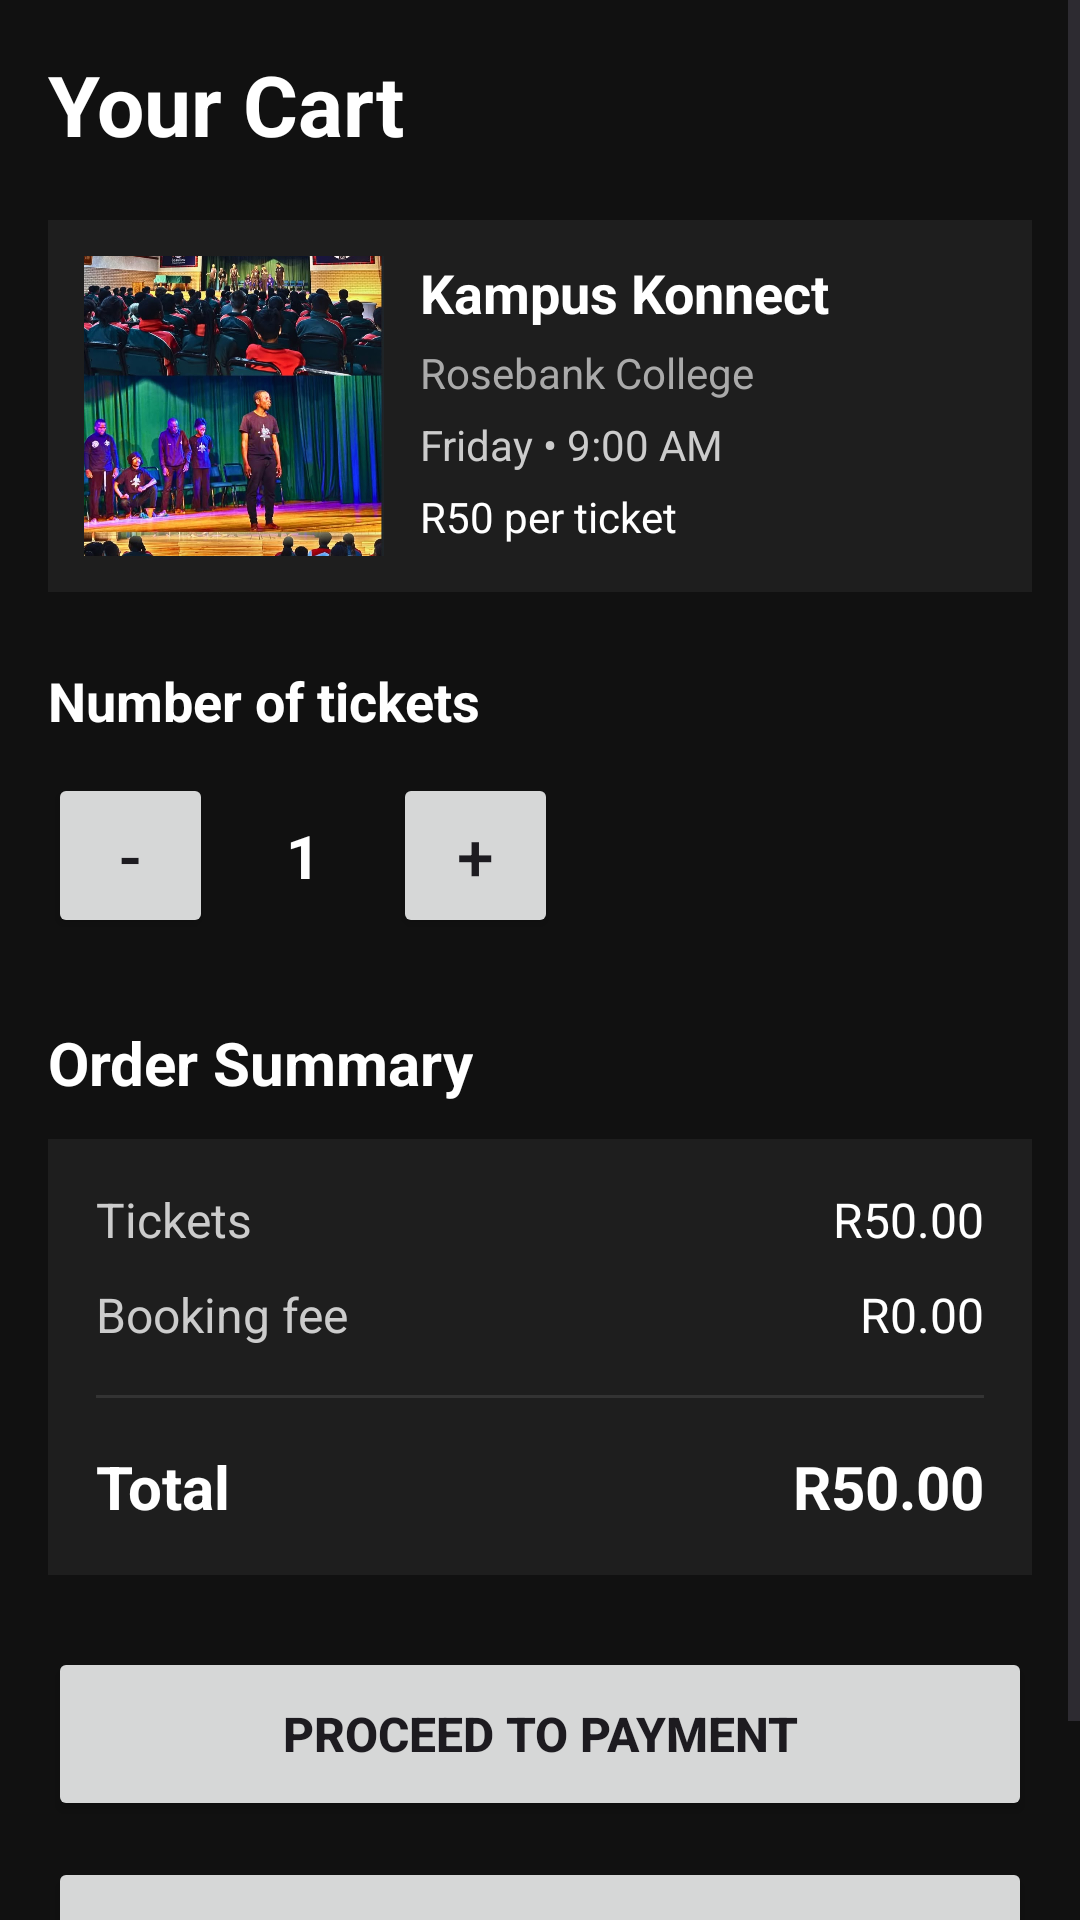

Named icons in this screenshot (1080 × 1920) and their bounding boxes, (x1, y1, x2, y2):
Event poster: (84, 256, 382, 556)
